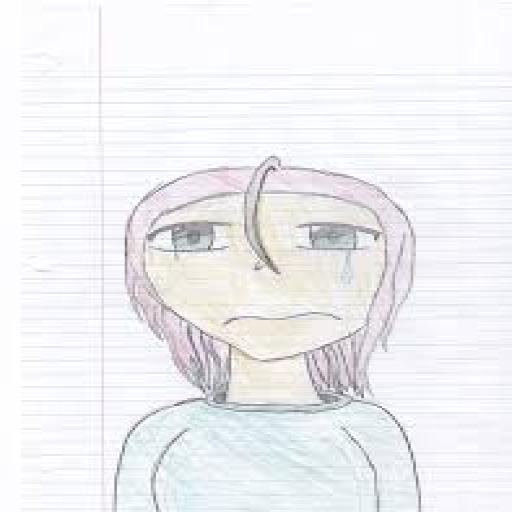person: (96, 146, 428, 510)
